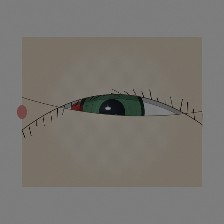hemorrhage_spot: (63, 83, 124, 132)
